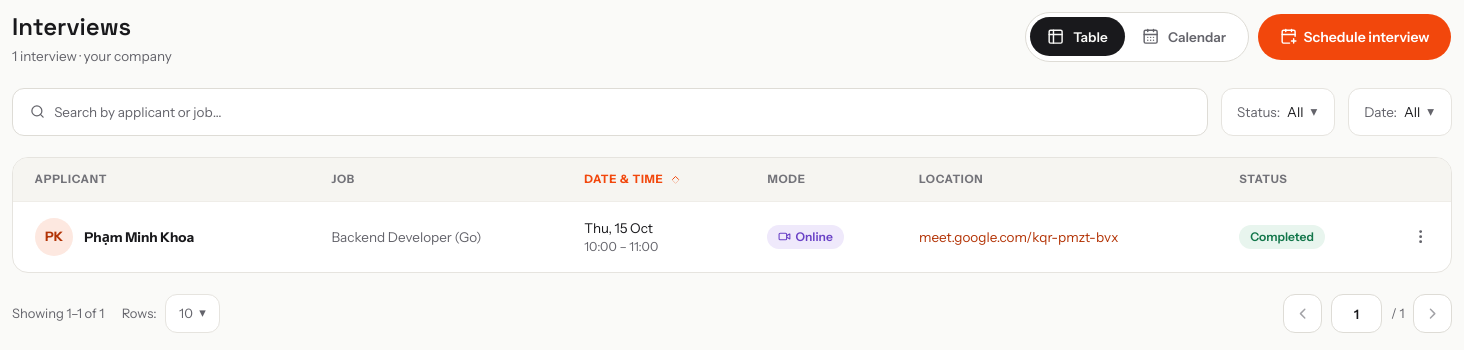
Interview status actions in the table › offers nothing but the details for a completed interview, which is kept as a record
This screenshot has width=1464, height=350.
Click the button named "Actions for Phạm Minh Khoa". click: point(1421, 237)
box: x1=1404 y1=220 x2=1438 y2=254
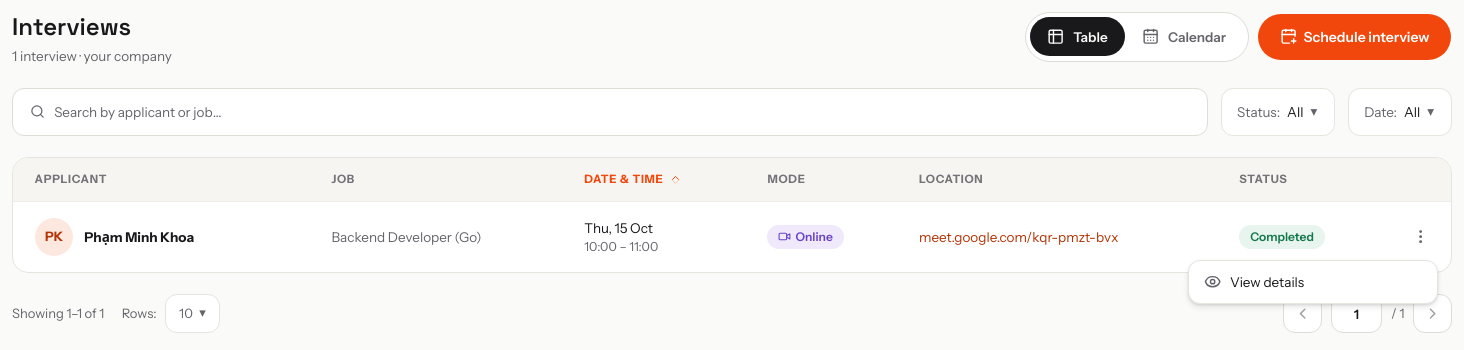
Expected: the number of menu items is 1, x1=1204 y1=273 x2=1304 y2=291
